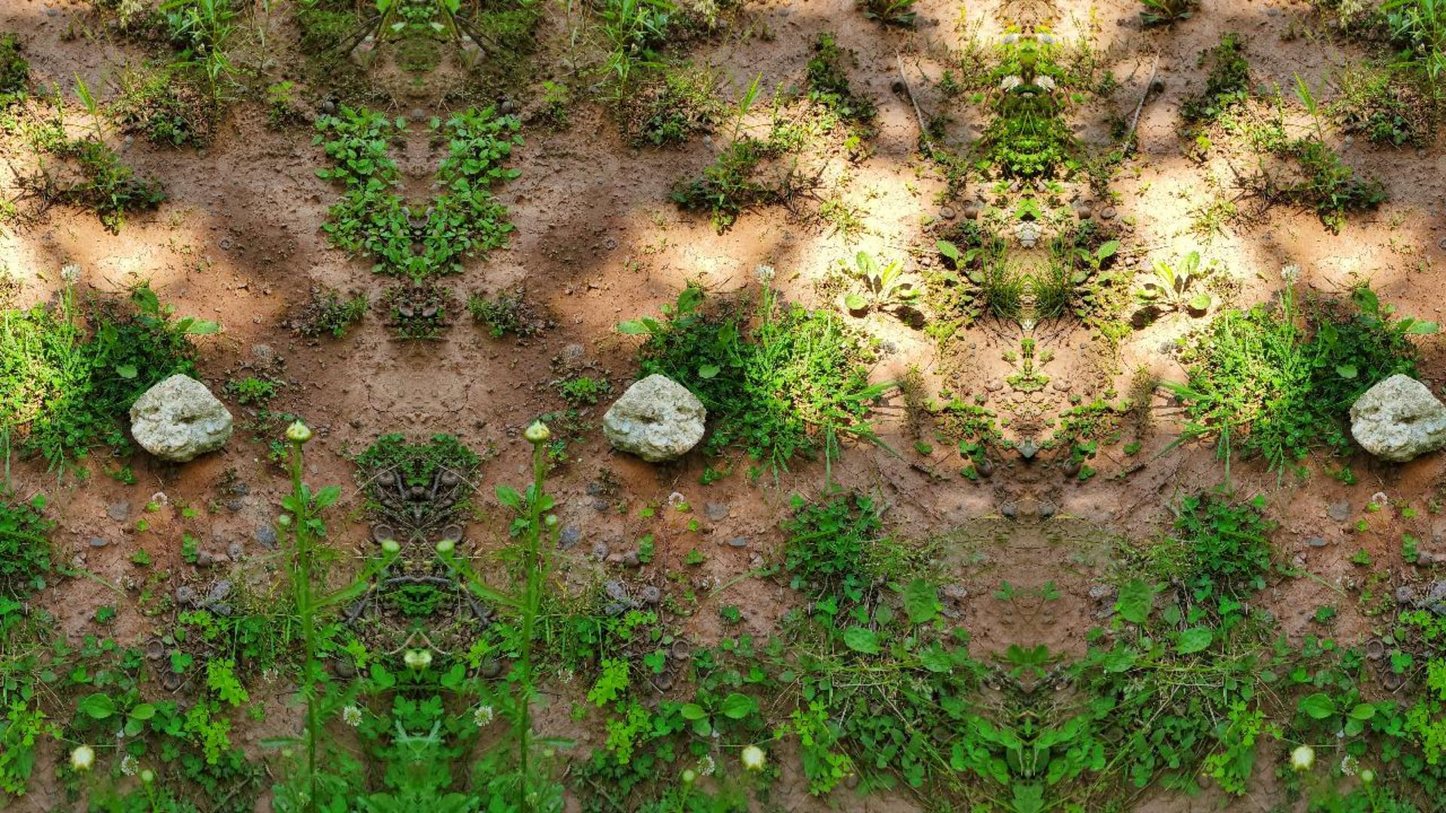rock: (603, 374, 705, 461), (130, 375, 232, 461), (1350, 375, 1445, 461)
